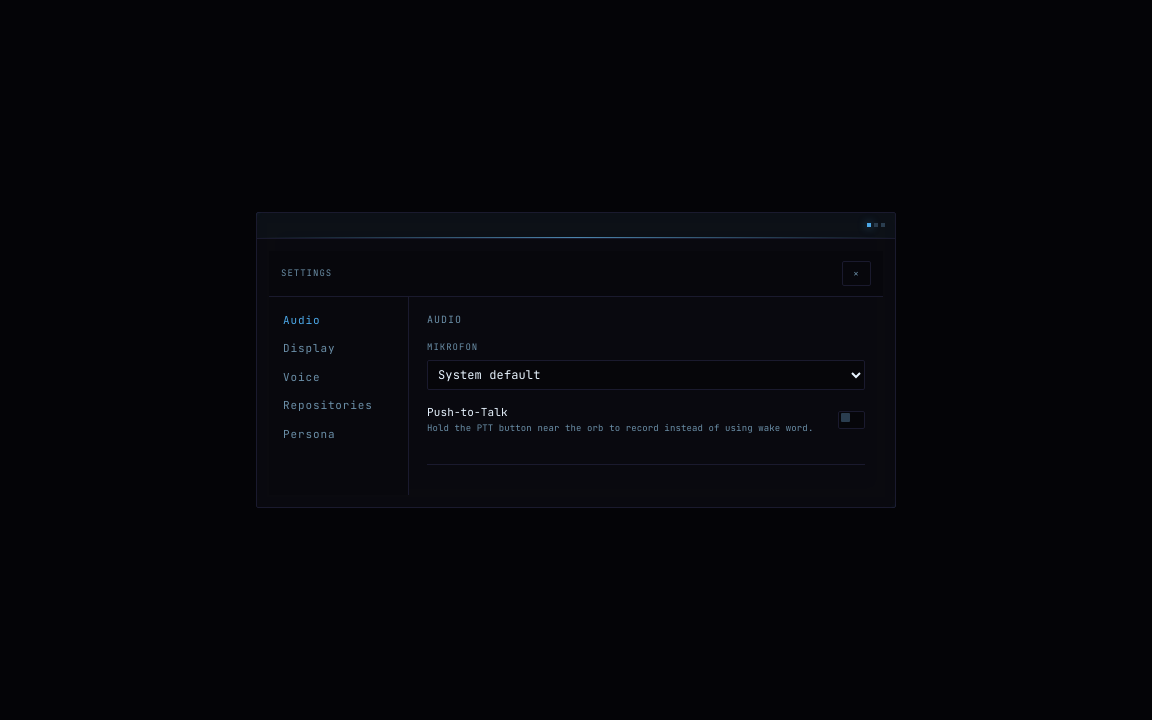
Scenario: SettingsView › navigates to Voice section and shows autospeak toggle
Step 1. Click the button "Voice" → x=338, y=377, box [269,363,408,392]
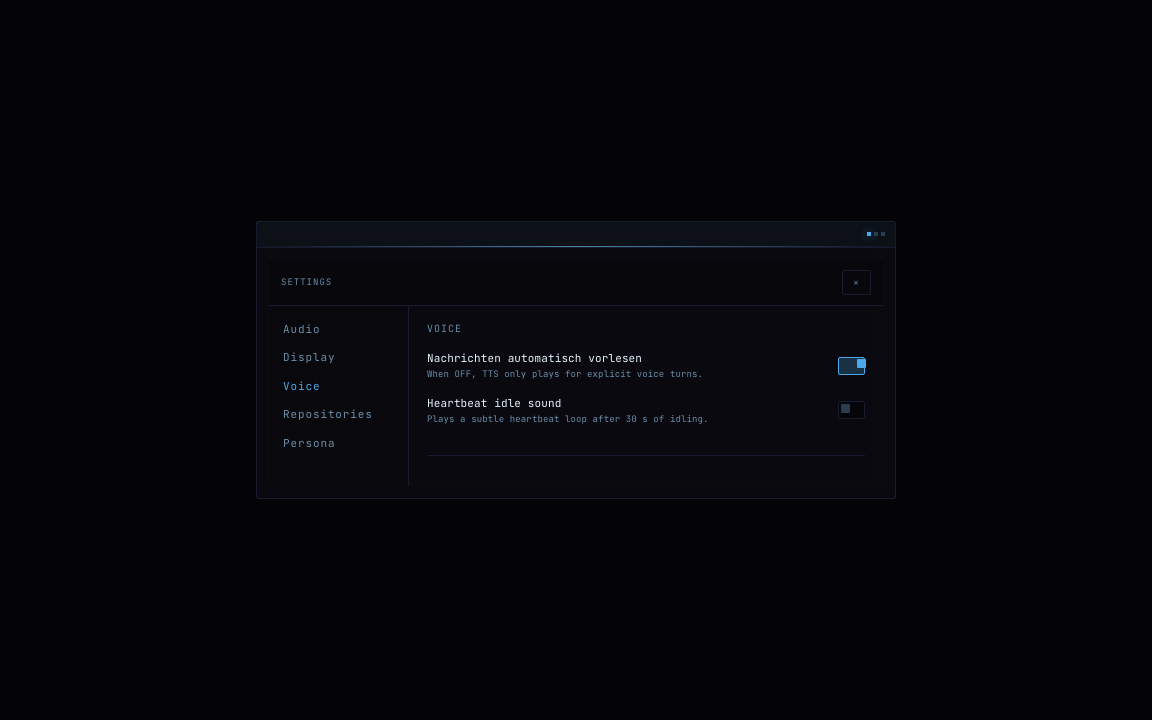
Now the text "Nachrichten automatisch vorlesen" is shown, box [427,351,642,365]
